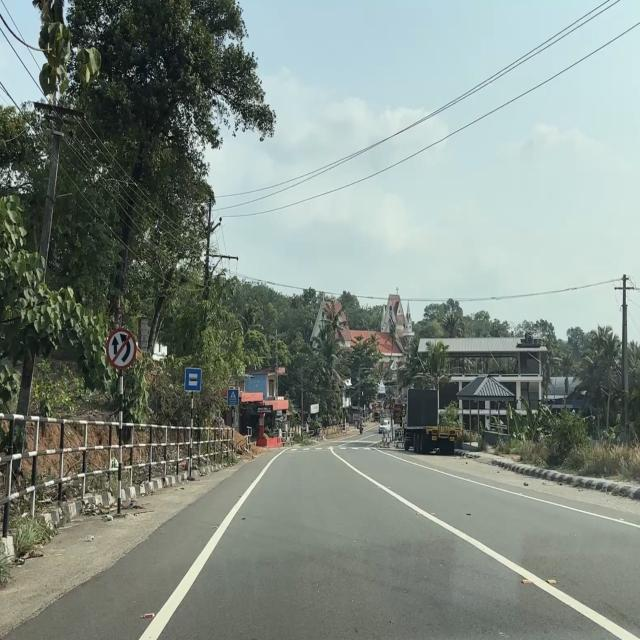INFORMATION: (184, 367, 203, 392)
OVERTAKING_PROHIBITED: (106, 328, 137, 370)
